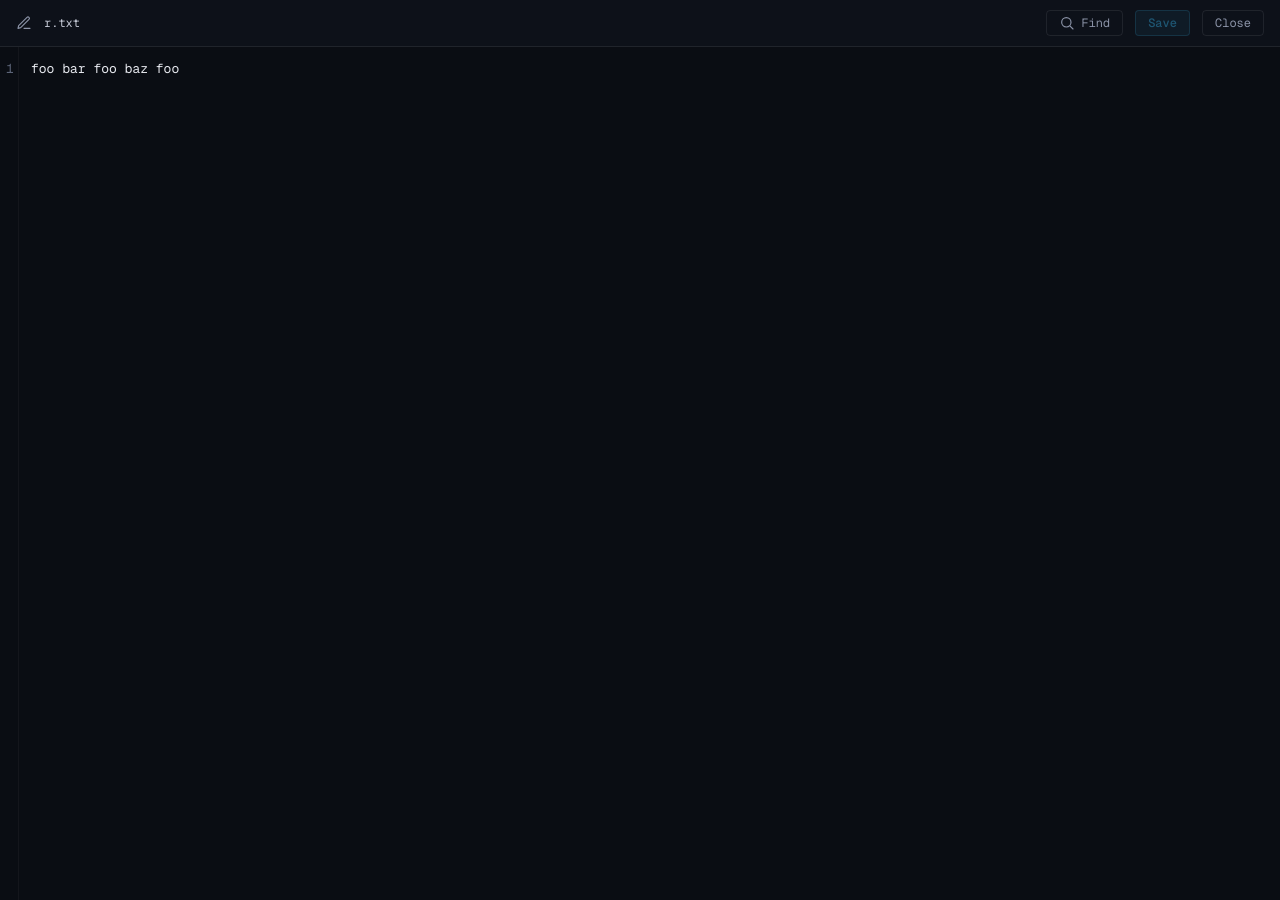
FileEditor find / replace › counts matches and replaces all occurrences into the buffer
The image size is (1280, 900).
Click the button "Find" at coordinates (1085, 23), box [1046,10,1123,36]
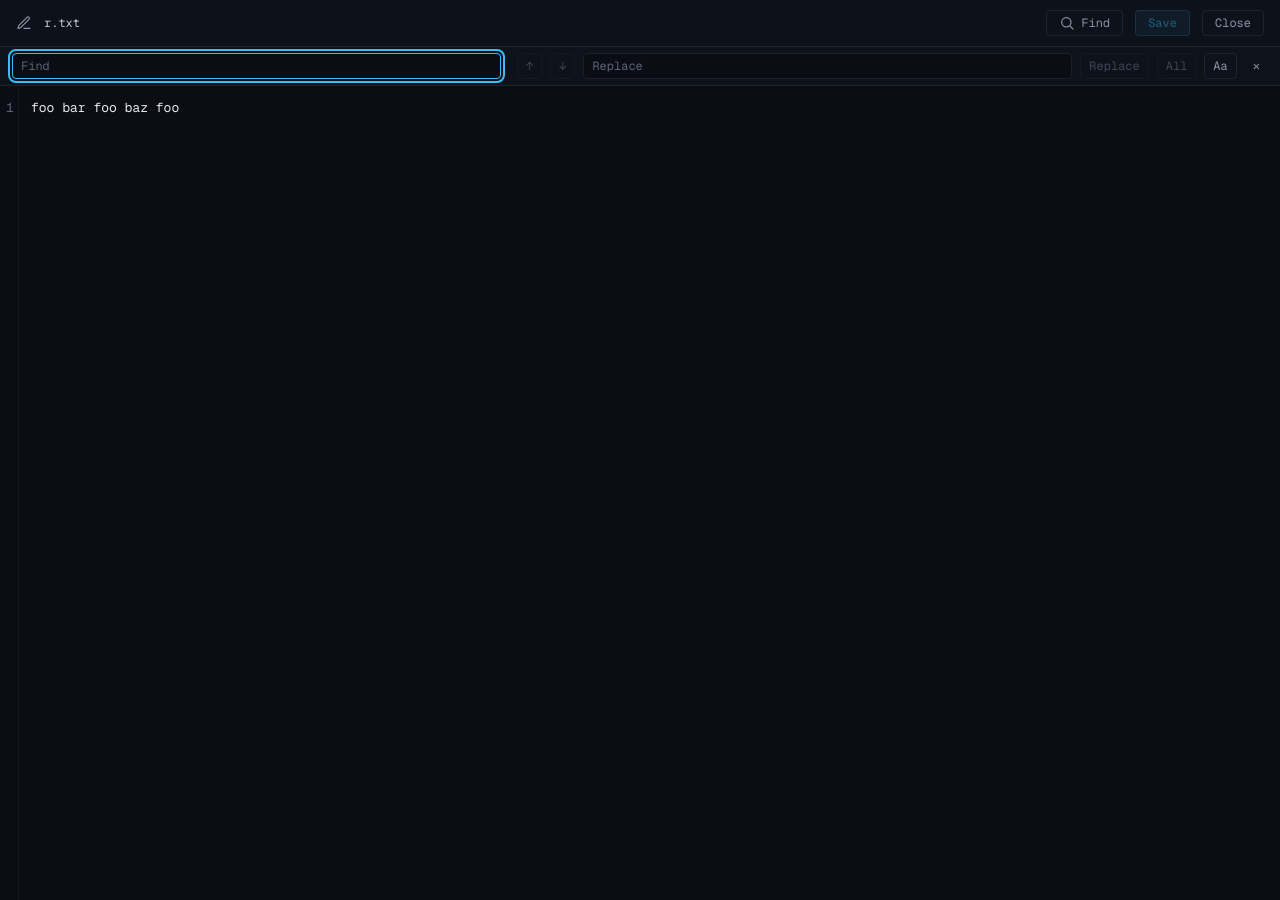
Type "foo" into the field labelled "Find" at coordinates (256, 66), box [12,53,501,79]
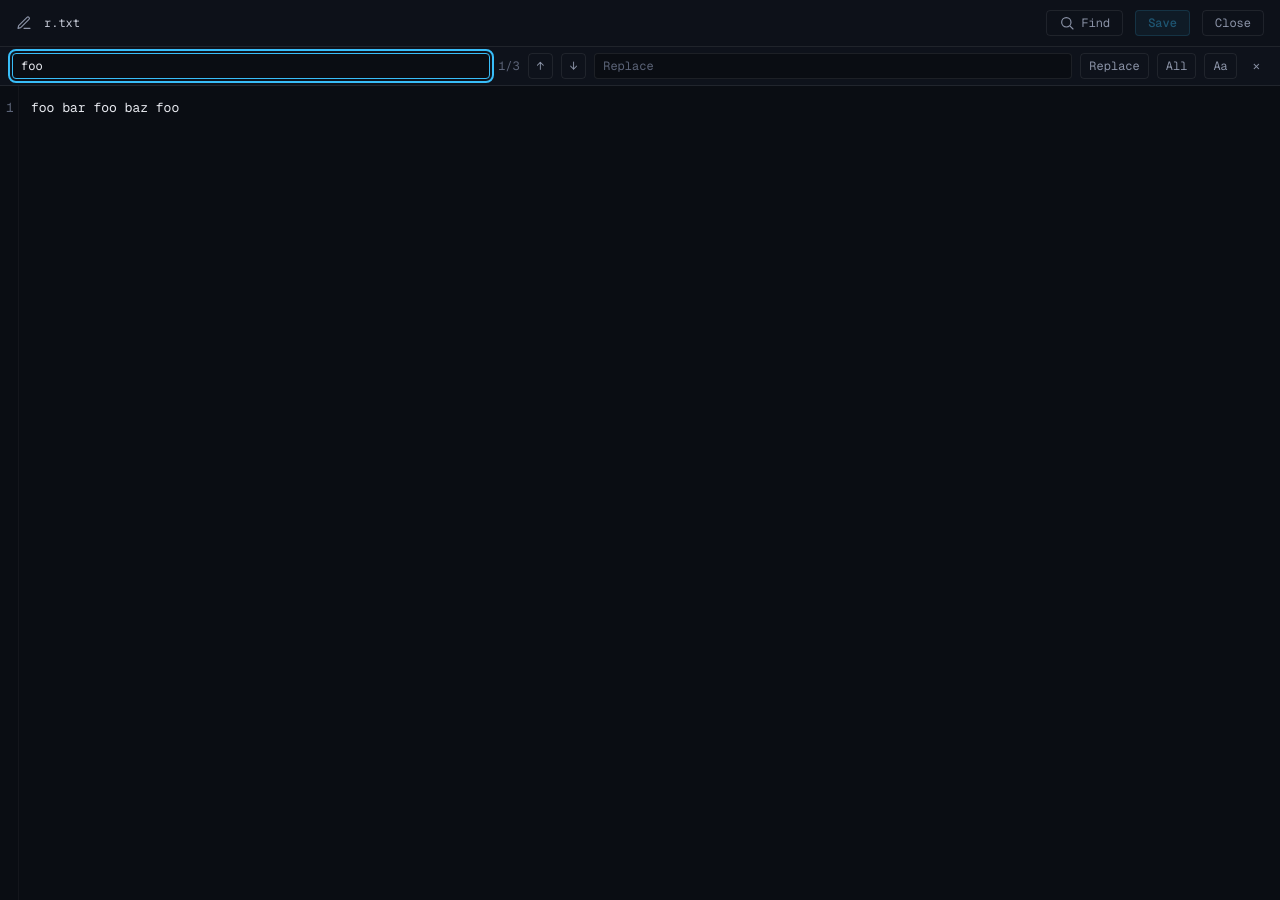
Expected: the text "1/3" is shown, [498,58,520,74]
Type "X" into the field named "Replace with" at coordinates (833, 66), box [594,53,1072,79]
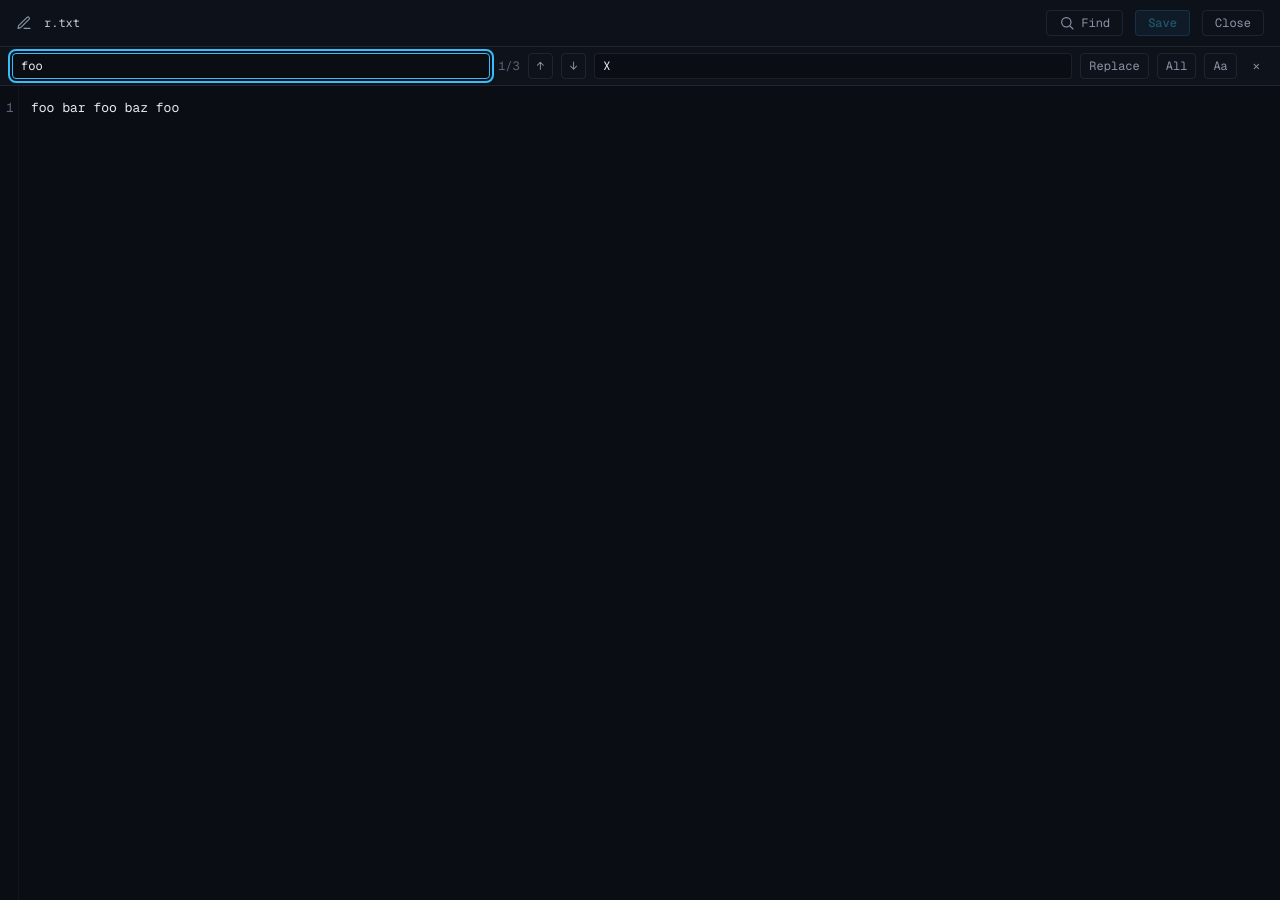
Click the button "All" at coordinates (1177, 66), box [1157,53,1196,79]
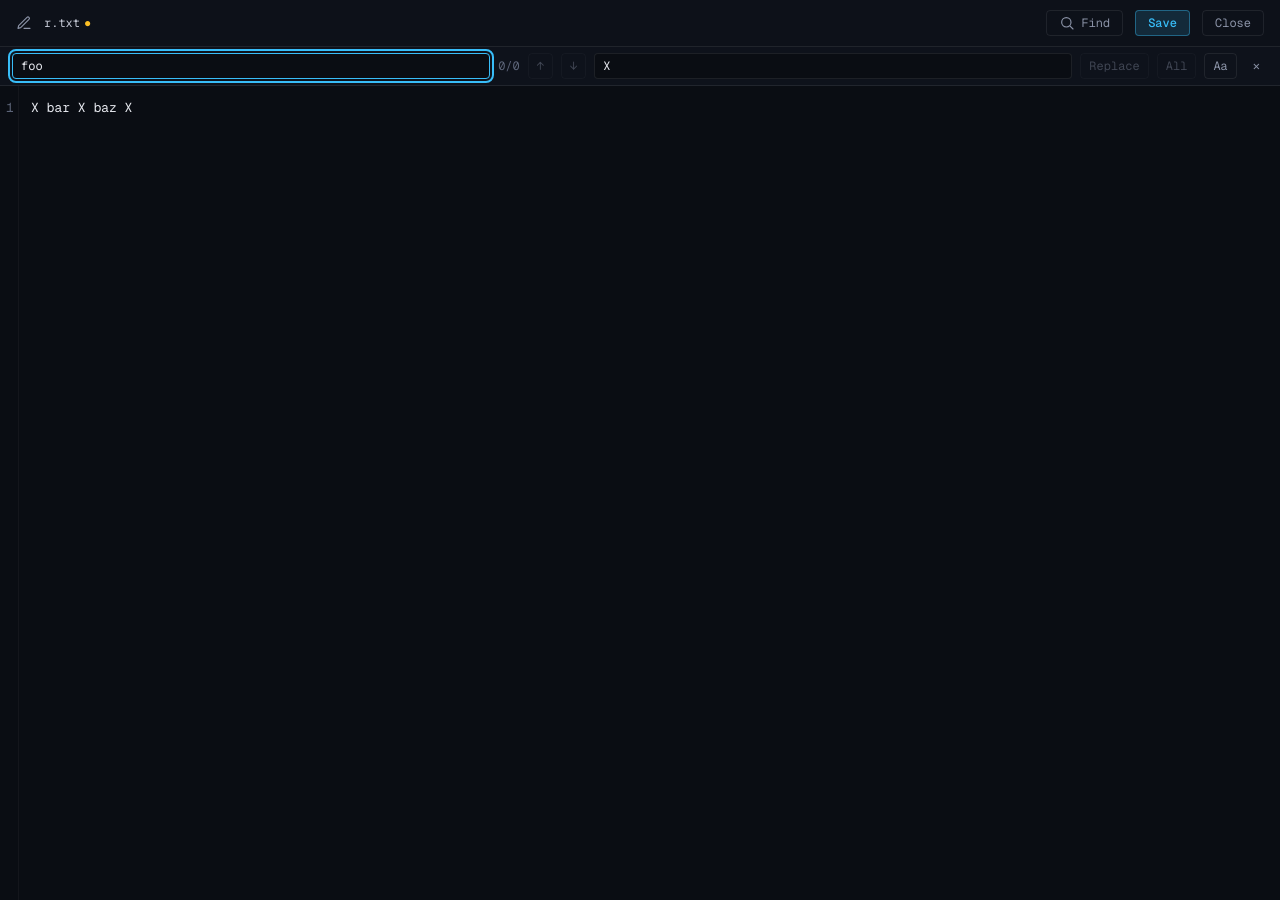
Expected: the text box holds "X bar X baz X"
